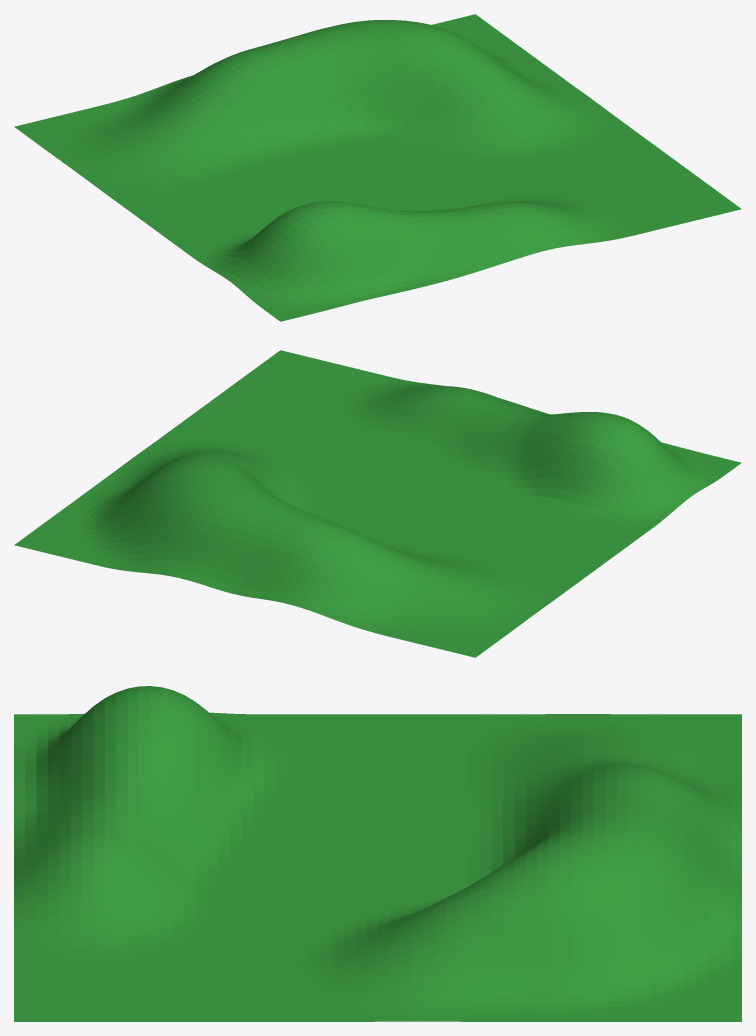
Rendered from Test Ground.fbx.
3 renders of one model, top to bottom at view 1: azimuth 30°, elevation 25°; view 2: azimuth 150°, elevation 25°; view 3: azimuth 270°, elevation 25°, orthographic. The views are drawn at different scales.
Visible parts, largest first — view 1: Plane; view 2: Plane; view 3: Plane.
Part boxes in pixels (box(x1,y1,x2,y2)): Plane: box(14, 14, 741, 321); Plane: box(14, 350, 741, 657); Plane: box(14, 686, 741, 1021).
Bounding box in the file's own units: 10000 × 1303 × 10000.
